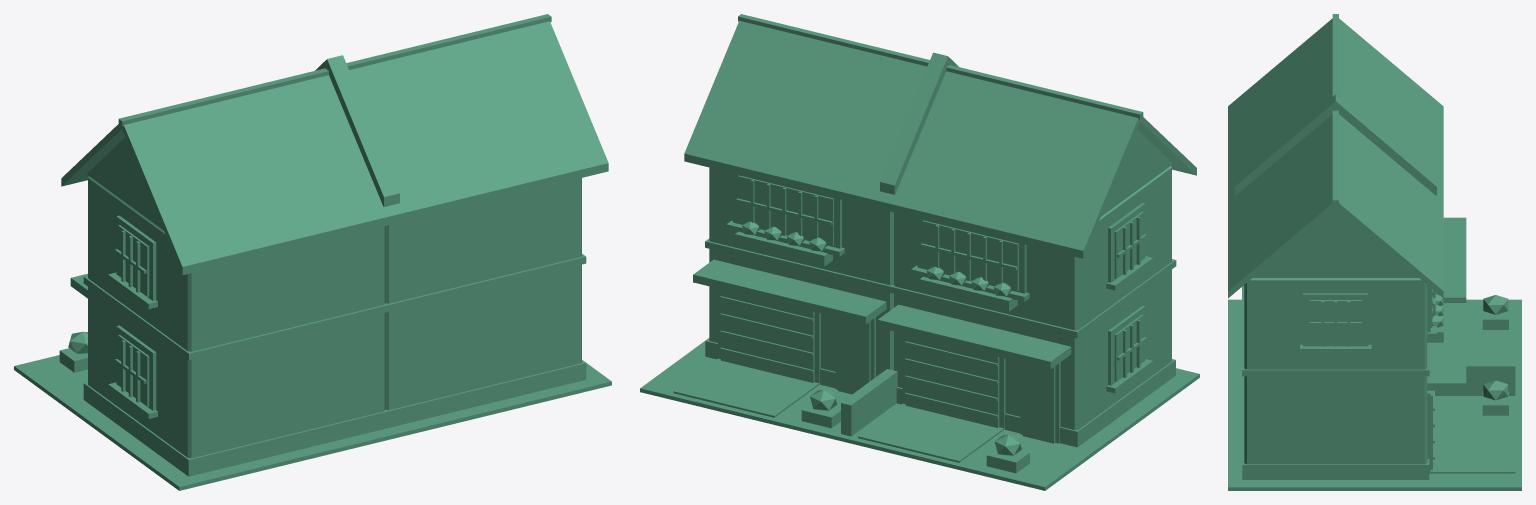
3 views of the same model, side by side, from view 1: azimuth 30°, elevation 25°; view 2: azimuth 150°, elevation 25°; view 3: azimuth 270°, elevation 25° (orthographic). The views are drawn at different scales.
Visible parts, largest first — view 1: corpo; view 2: corpo; view 3: corpo.
Part boxes in pixels (<box>): corpo: <box>14,14,611,490</box>; corpo: <box>640,14,1199,490</box>; corpo: <box>1228,14,1521,490</box>.
Bounding box in the file's own units: 1.36 × 1.01 × 0.9.
